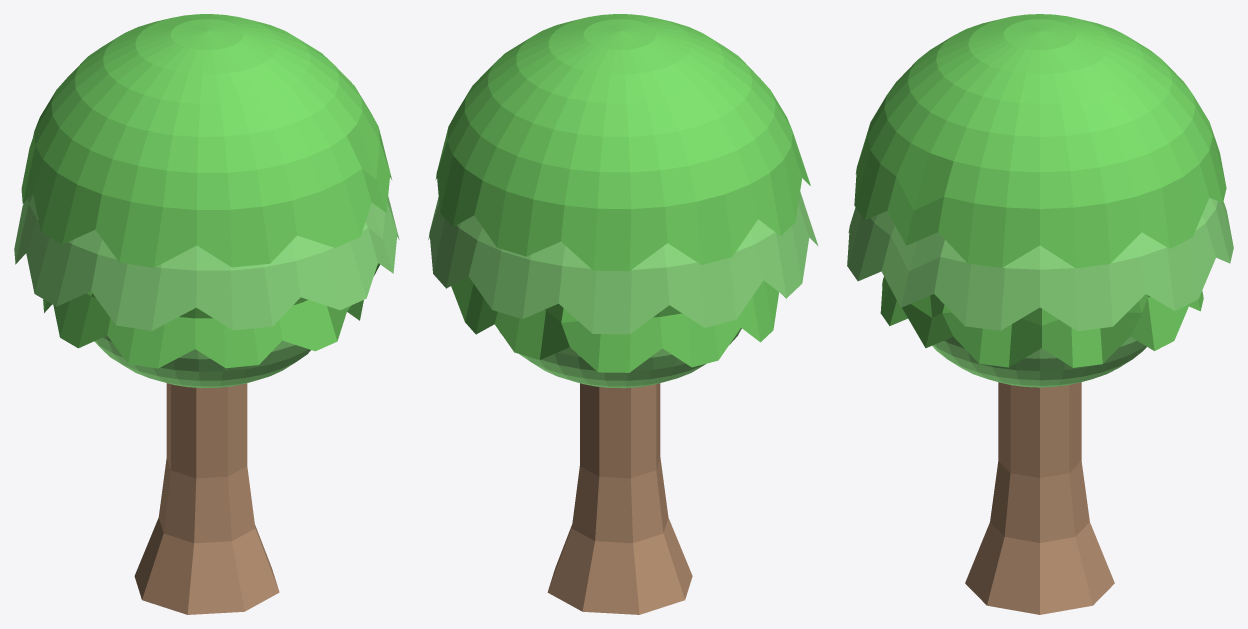
File: TREE #3.fbx
3 renders of one model, left to right at view 1: azimuth 30°, elevation 25°; view 2: azimuth 150°, elevation 25°; view 3: azimuth 270°, elevation 25°, orthographic.
Visible parts, largest first — view 1: three; view 2: three; view 3: three.
Part boxes in pixels (<box>): three: <box>14,14,399,614</box>; three: <box>428,14,818,614</box>; three: <box>847,14,1233,614</box>.
Size of the model in its own units: 206 by 326 by 207.
Materials: 1 (1 with a texture image).
